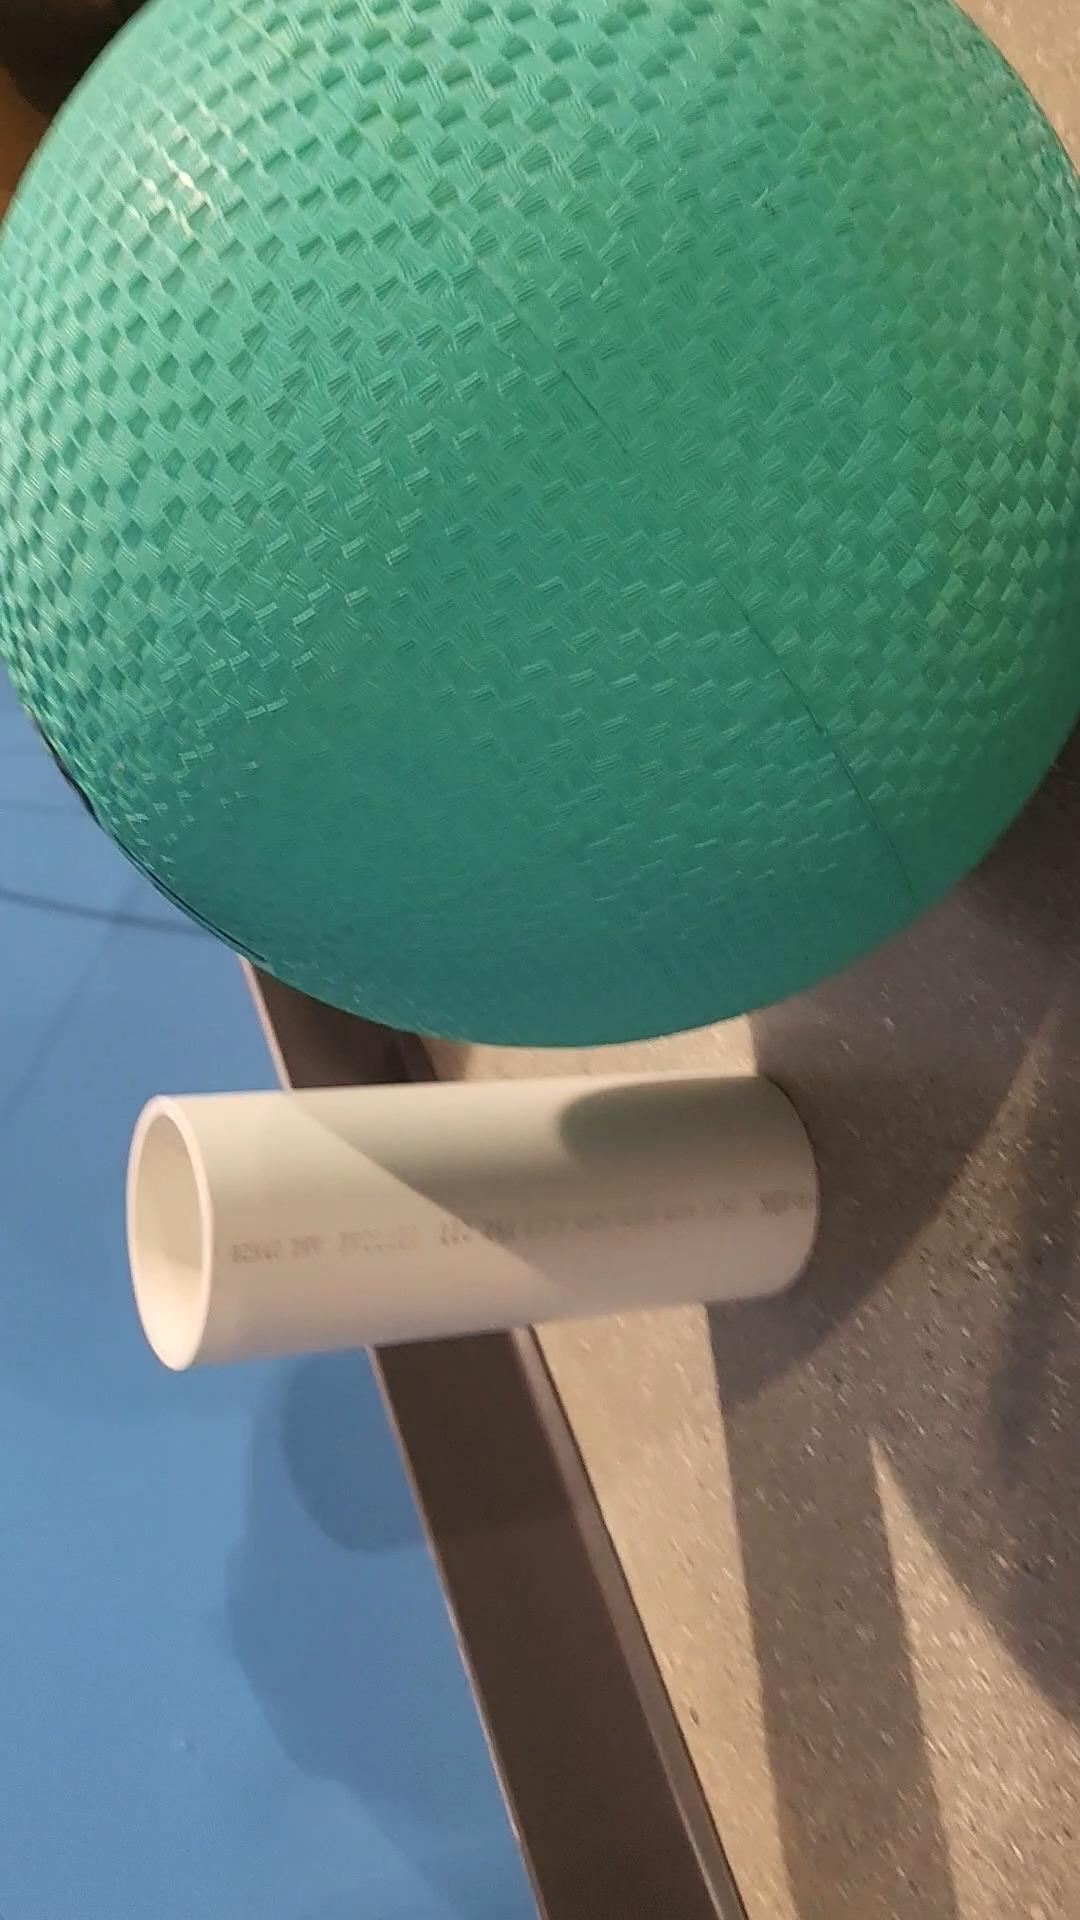algae: (0, 0, 1080, 1063)
coral: (120, 1058, 844, 1373)
